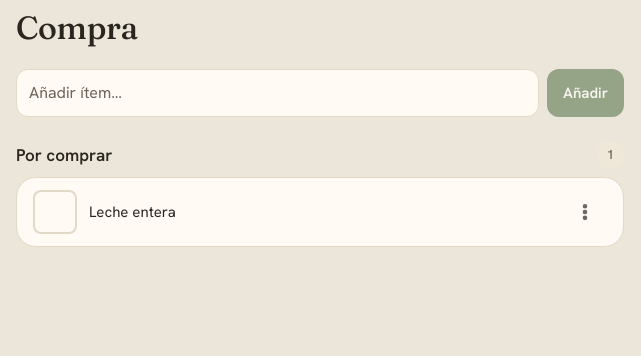
CompraPage — menú de acciones de tres puntos › un borrón en blanco (draft vacío) descarta, no borra el ítem
This screenshot has width=641, height=356.
expect the text "Leche entera" is shown: met, box left=89, top=202, right=176, bottom=222
Click the button named "Menú de acciones de Leche entera" at (585, 212), box left=563, top=190, right=607, bottom=234
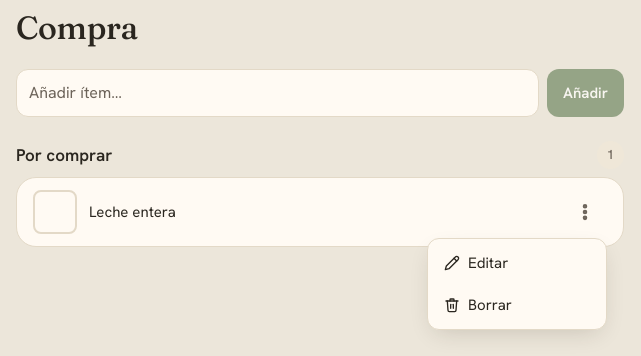
Click the menu item with aria-label "Editar Leche entera" at (517, 263), box left=432, top=243, right=602, bottom=283
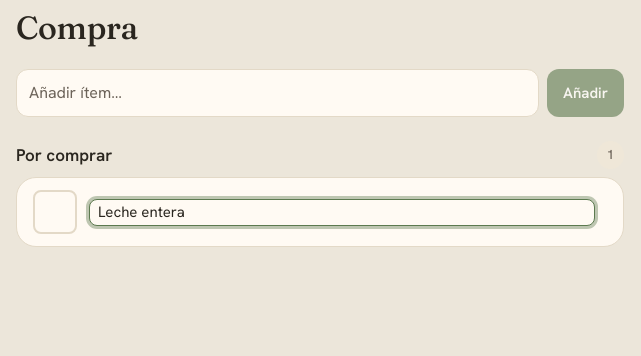
Clear the field named "Editar Leche entera" at (342, 212), box left=89, top=199, right=595, bottom=226
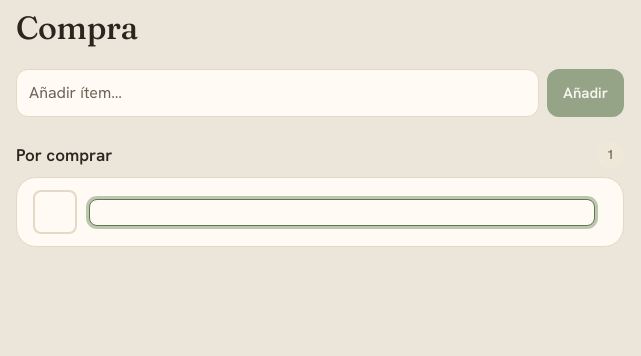
Press Enter in the field named "Editar Leche entera", box left=89, top=199, right=595, bottom=226
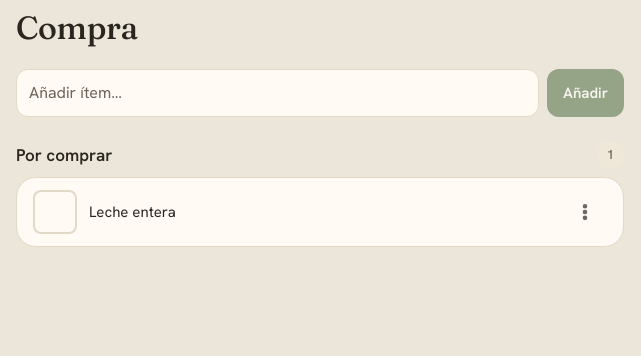
expect the text "Leche entera" is shown: met, box left=89, top=202, right=176, bottom=222
